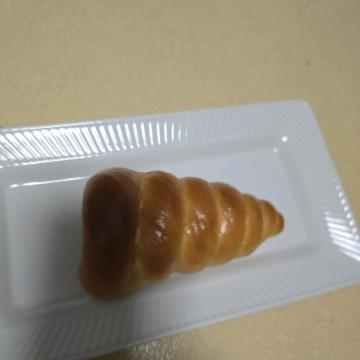cream horn: (150, 60, 326, 304)
